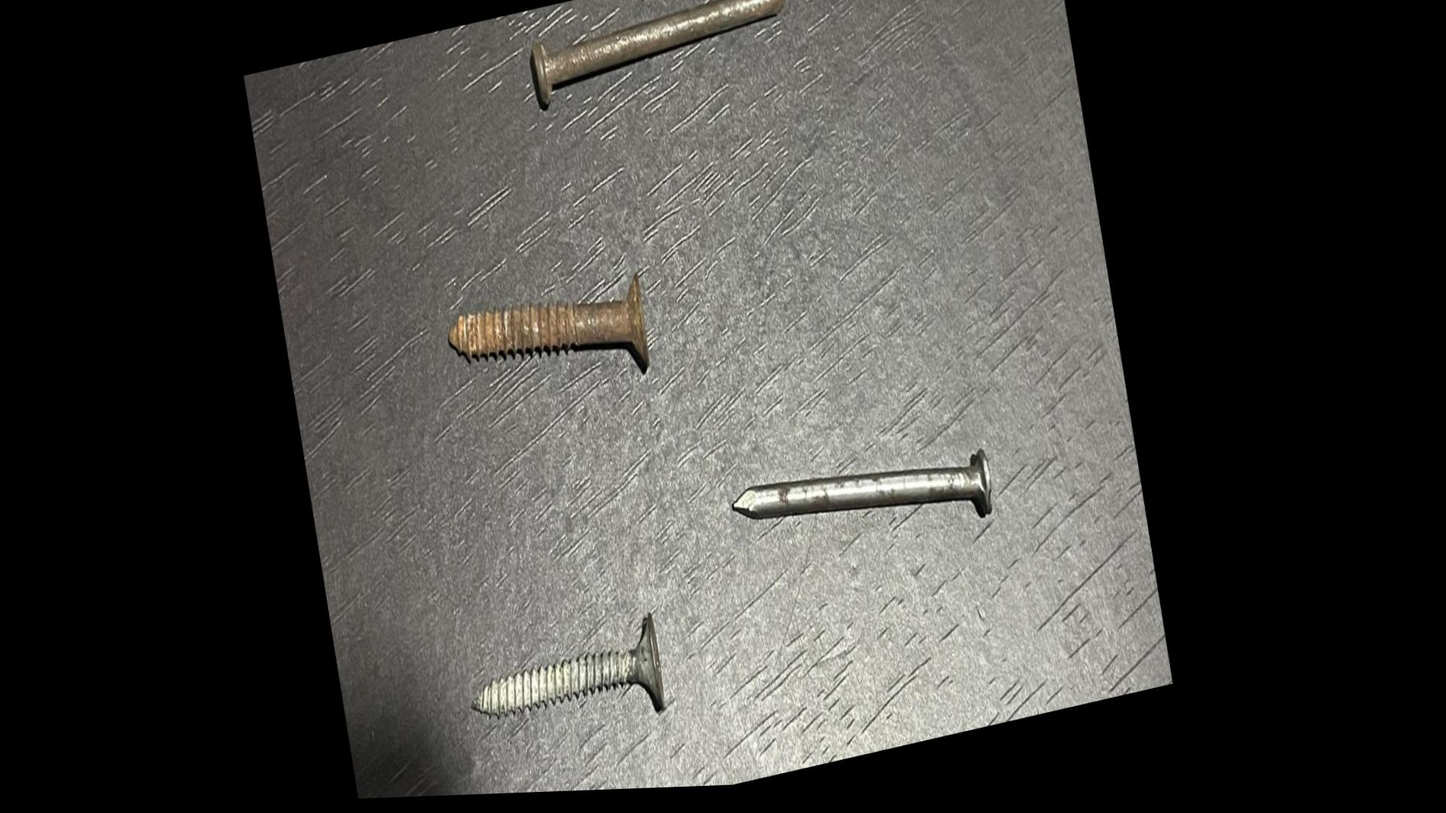nail: (705, 358, 1031, 619), (474, 0, 816, 170)
screw: (441, 544, 714, 799), (417, 213, 684, 470)
